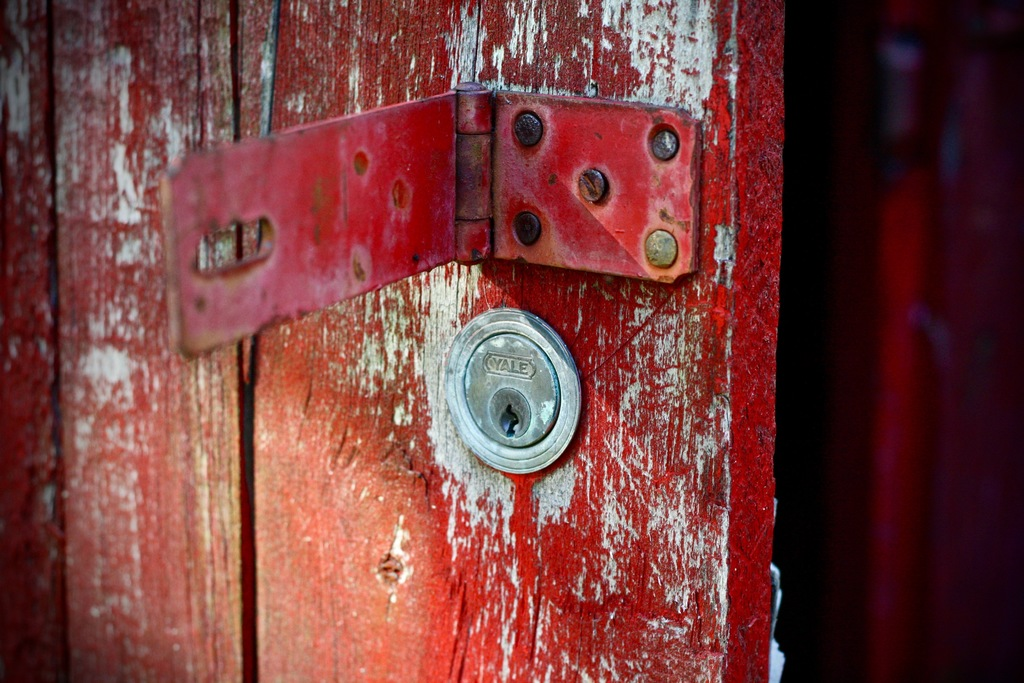door: (61, 23, 718, 665)
